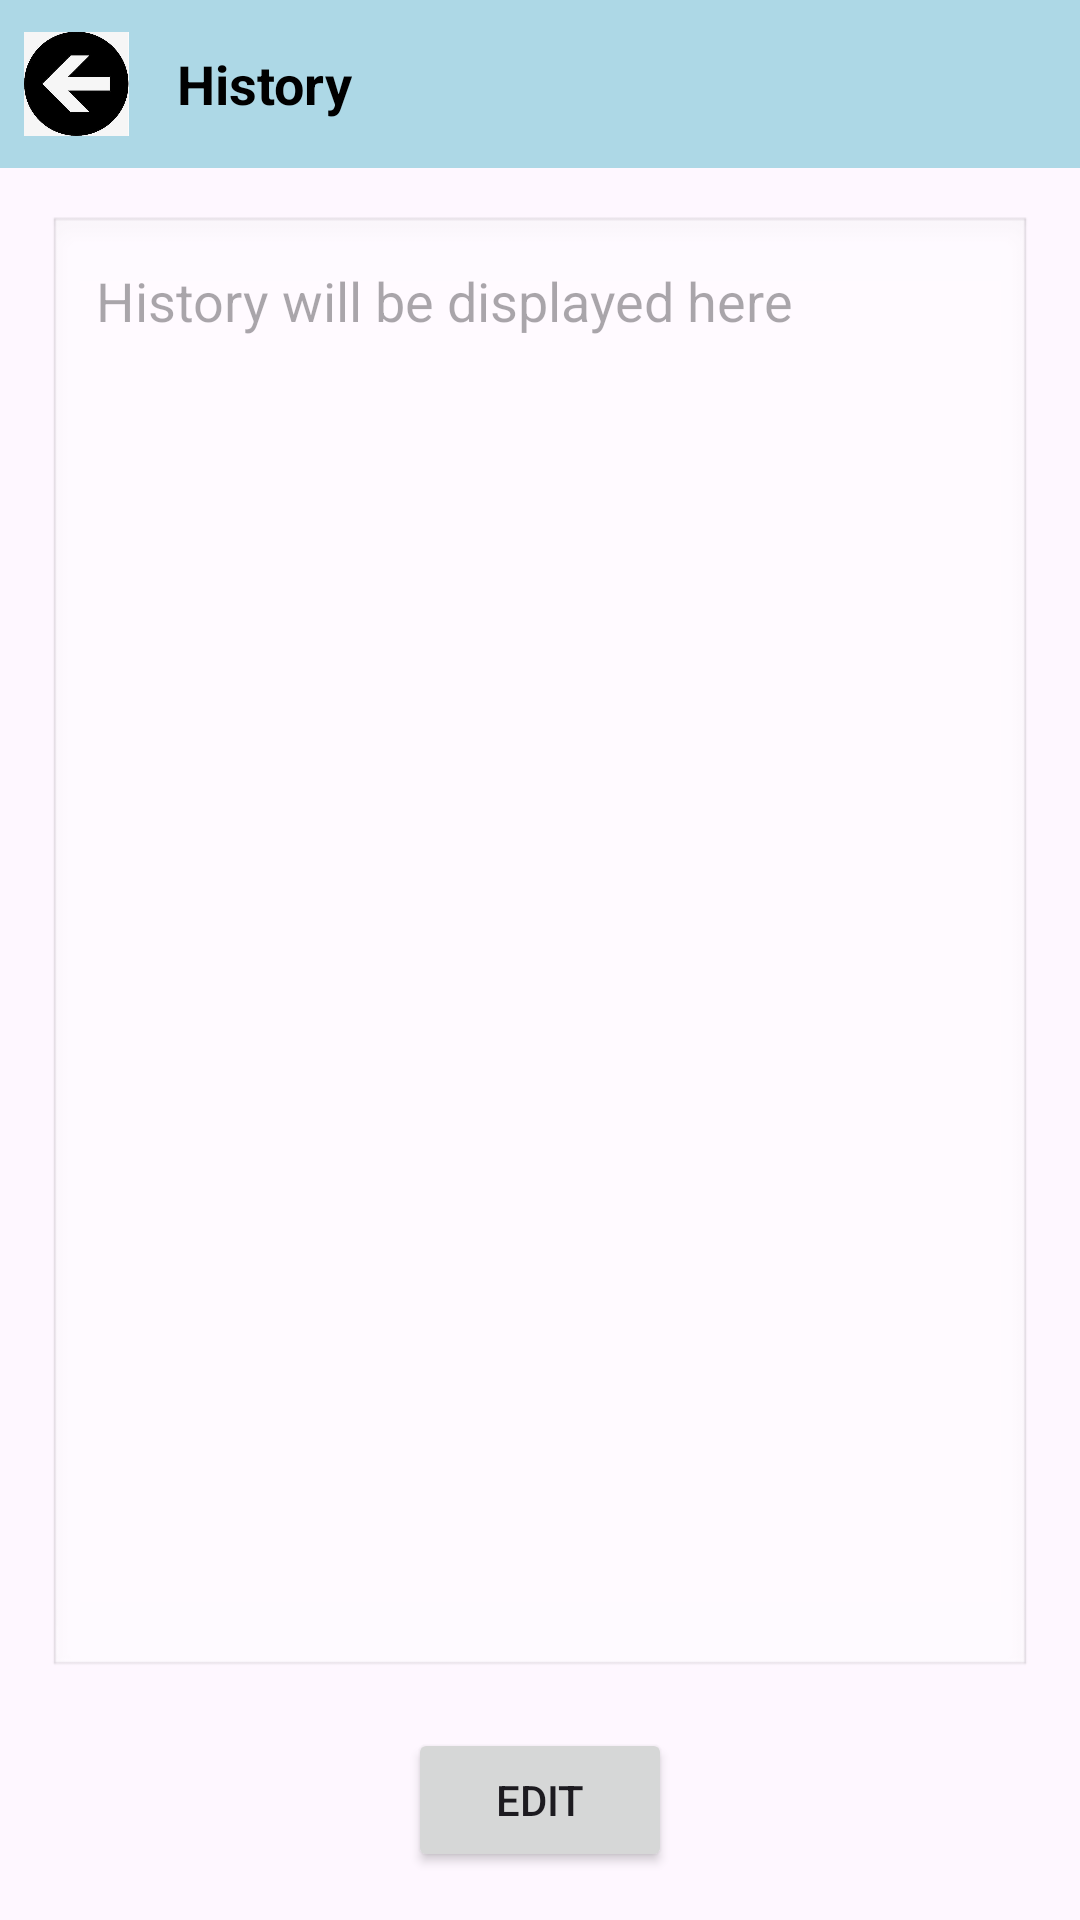

Point at icon controls on the screen. Image size 1080w x 1920h, points as (x,y).
Back: (76,84)
